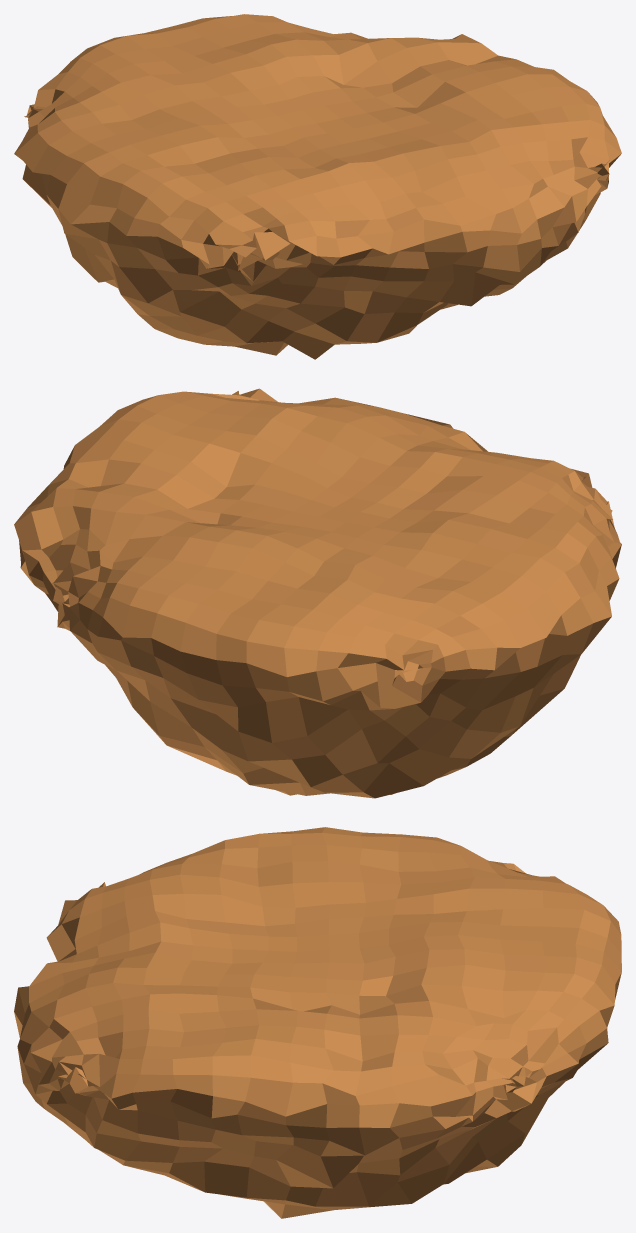
Rendered from prototype-platform.fbx.
3 renders of one model, top to bottom at view 1: azimuth 30°, elevation 25°; view 2: azimuth 150°, elevation 25°; view 3: azimuth 270°, elevation 25°, orthographic. The views are drawn at different scales.
Parts seen in each view (by area): view 1: Grid; view 2: Grid; view 3: Grid.
Part boxes in pixels (x1,y1,x2,y2): Grid: (14, 14, 621, 359); Grid: (14, 388, 621, 798); Grid: (14, 827, 621, 1218).
Bounding box in the file's own units: 2310 × 1030 × 2198.
